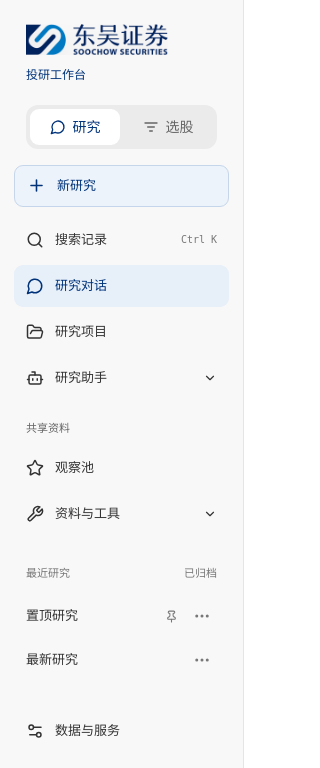
Test: keeps pinned conversations first and reads archives separately
The width and height of the screenshot is (320, 768).
Check: the button with aria-label "继续研究：置顶研究" is shown, box [14,596,163,636]
Check: the buttons "继续研究" read "置顶研究", "最新研究", in this order, box [14,596,163,636]; [14,640,178,680]
Click the button "已归档".
click(200, 573)  # box [184,561,217,585]
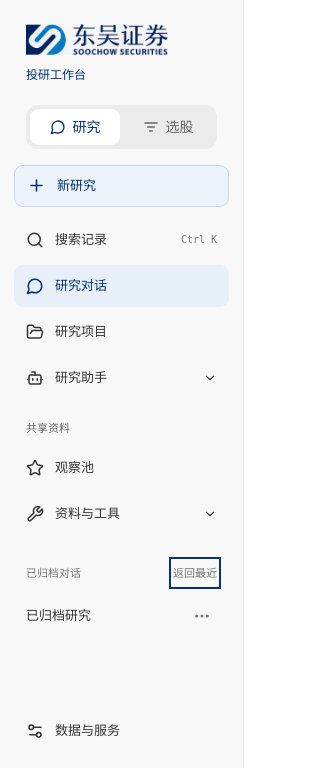
Check: the button with aria-label "继续研究：已归档研究" is shown, box [14,596,178,636]
Check: the button "继续研究：最新研究" is gone
Click the button "返回最近".
click(195, 573)  # box [173,561,217,585]
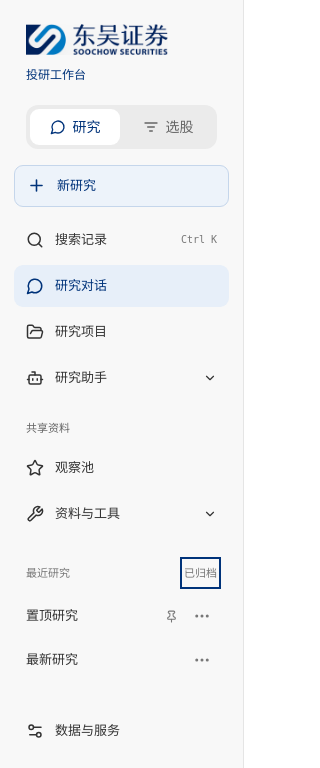
Check: the button with aria-label "继续研究：最新研究" is shown, box [14,640,178,680]
